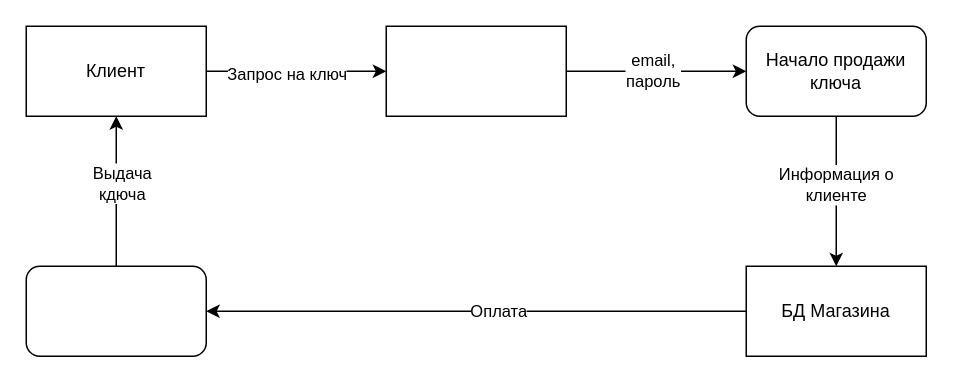
The diagram is 953 pixels wide and 383 high, and some of its shapes have lost their labels. The box of each missing label's shape, as (x1, y1, x2, y2) in pixels:
Веб-сайт: (385, 25, 566, 116)
Подписание электронного договора: (25, 265, 206, 356)
